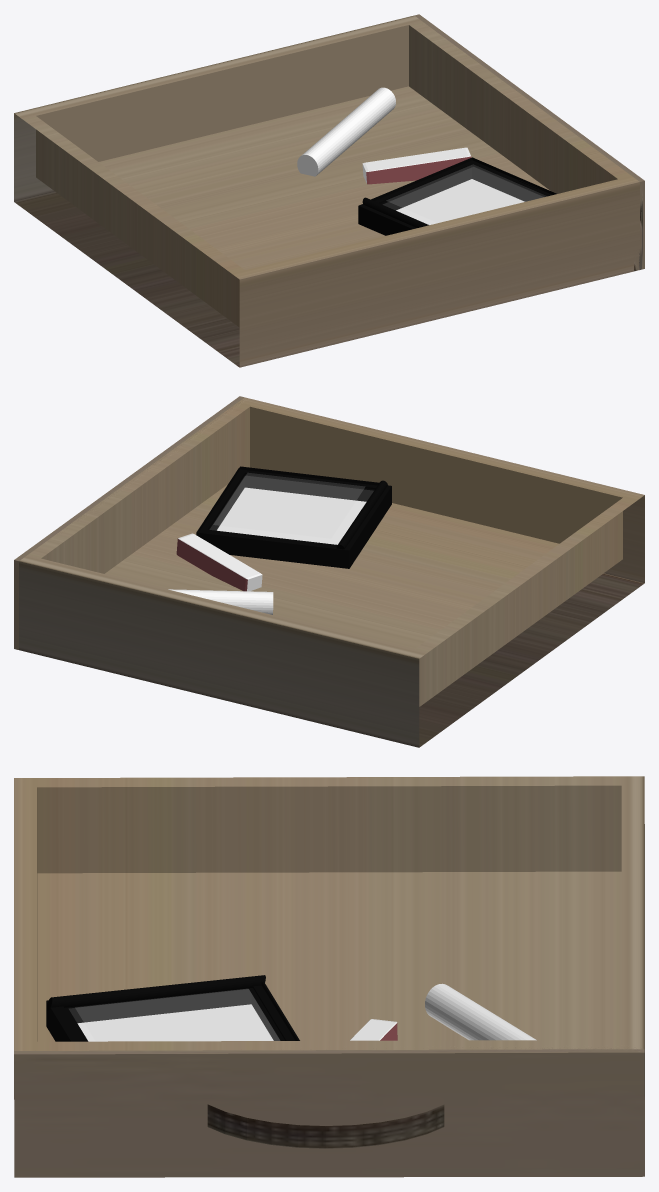
The model's file is vanity_drawer.glb.
3 renders of one model, top to bottom at view 1: azimuth 30°, elevation 25°; view 2: azimuth 150°, elevation 25°; view 3: azimuth 270°, elevation 25°, orthographic. The views are drawn at different scales.
Parts seen in each view (by area): view 1: Cube.004; view 2: Cube.004; view 3: Cube.004.
Part boxes in pixels (left/top/right/bottom): Cube.004: left=14, top=14, right=644, bottom=367; Cube.004: left=14, top=396, right=644, bottom=747; Cube.004: left=14, top=776, right=644, bottom=1177.
Bounding box in the file's own units: 1.03 × 0.2009 × 0.9182.
Materials: 7 (1 with a texture image).
